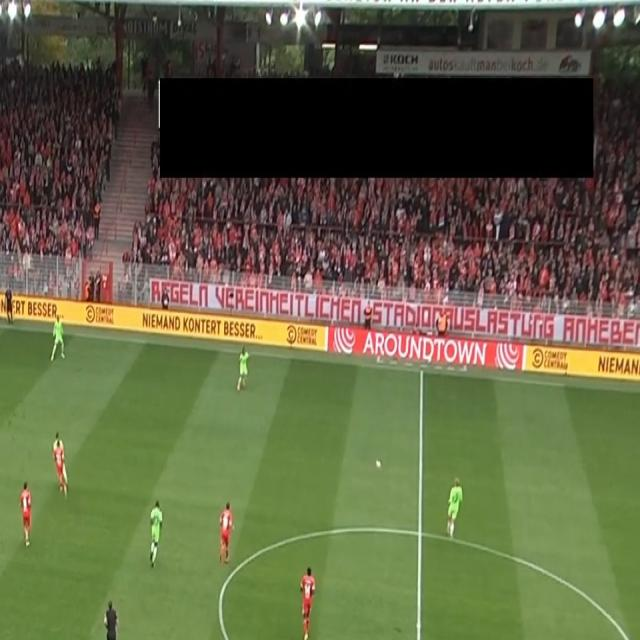ball: (374, 457, 383, 472)
